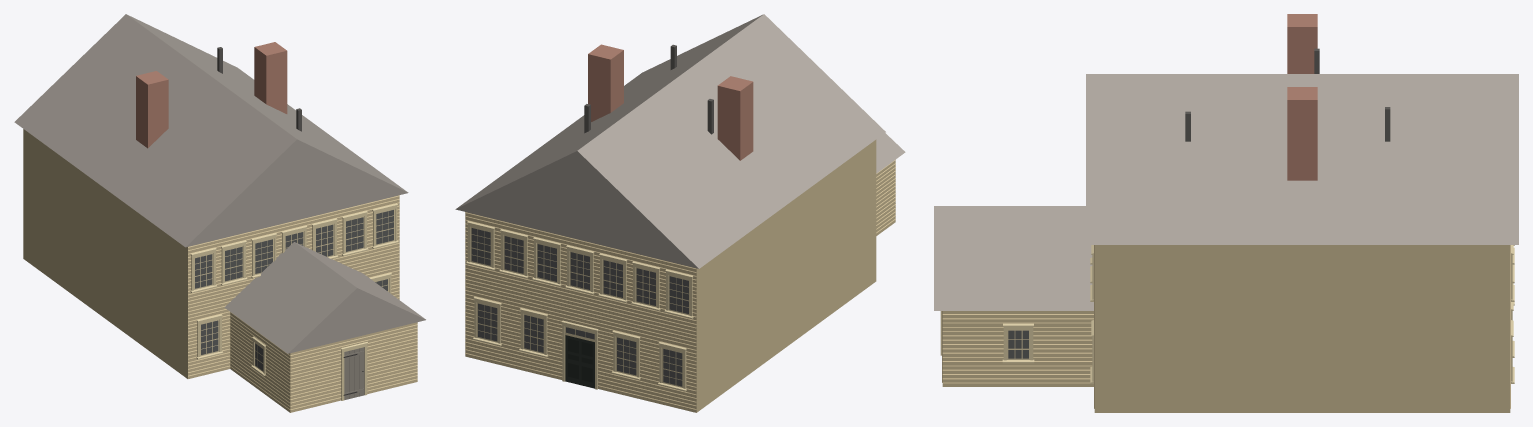
The model's file is recon_1835_core_h3_028__inferred_1835.glb.
The picture shows the model from 3 angles, left to right: view 1: azimuth 30°, elevation 25°; view 2: azimuth 150°, elevation 25°; view 3: azimuth 270°, elevation 25°; orthographic projection. The views are drawn at different scales.
Parts seen in each view (by area): view 1: recon_1835_core_h3_028__inferred_1835; view 2: recon_1835_core_h3_028__inferred_1835; view 3: recon_1835_core_h3_028__inferred_1835.
Part boxes in pixels (x1=…): recon_1835_core_h3_028__inferred_1835: x1=14, y1=14, x2=425, y2=412; recon_1835_core_h3_028__inferred_1835: x1=455, y1=14, x2=905, y2=412; recon_1835_core_h3_028__inferred_1835: x1=934, y1=14, x2=1518, y2=412.
Bounding box in the file's own units: 9.65 × 9.5 × 17.31.
